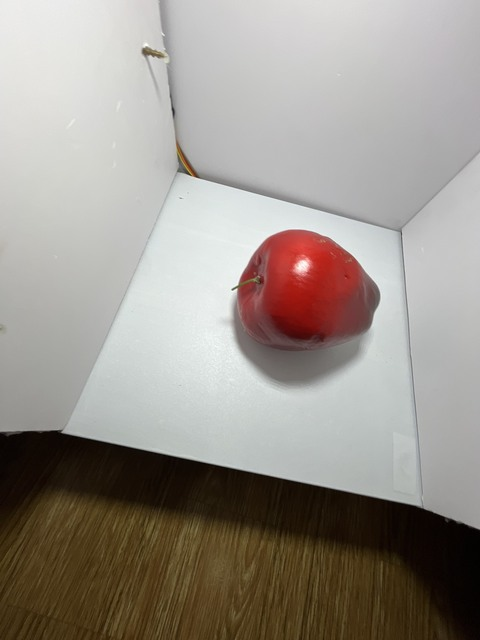Tao: (229, 226, 387, 356)
